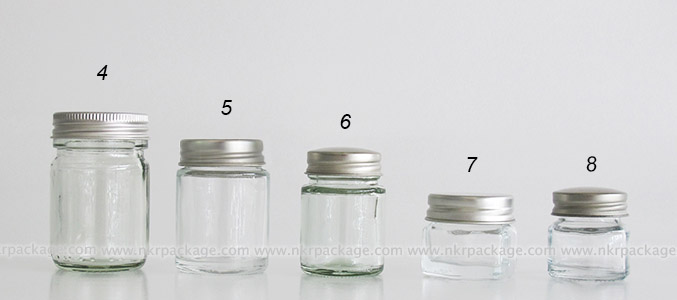glass_bottle: (40, 101, 156, 281), (171, 131, 272, 277), (294, 142, 392, 282), (536, 182, 644, 289), (413, 184, 523, 284)
